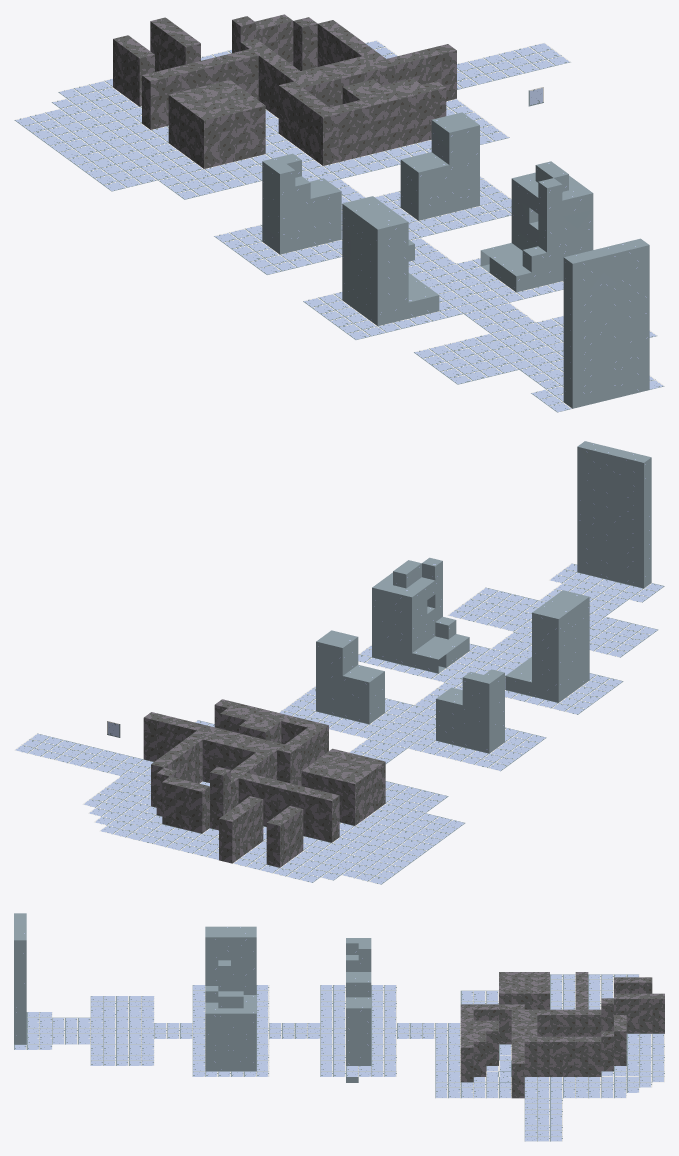
The model's file is map.obj.
3 renders of one model, top to bottom at view 1: azimuth 30°, elevation 25°; view 2: azimuth 150°, elevation 25°; view 3: azimuth 270°, elevation 25°, orthographic. The views are drawn at different scales.
Visible parts, largest first — view 1: Default; view 2: Default; view 3: Default.
Part boxes in pixels (<box>): Default: <box>14,14,664,412</box>; Default: <box>14,441,664,884</box>; Default: <box>14,913,664,1141</box>.
Size of the model in its own units: 31 by 10 by 51.
3 materials, 3 textured.
